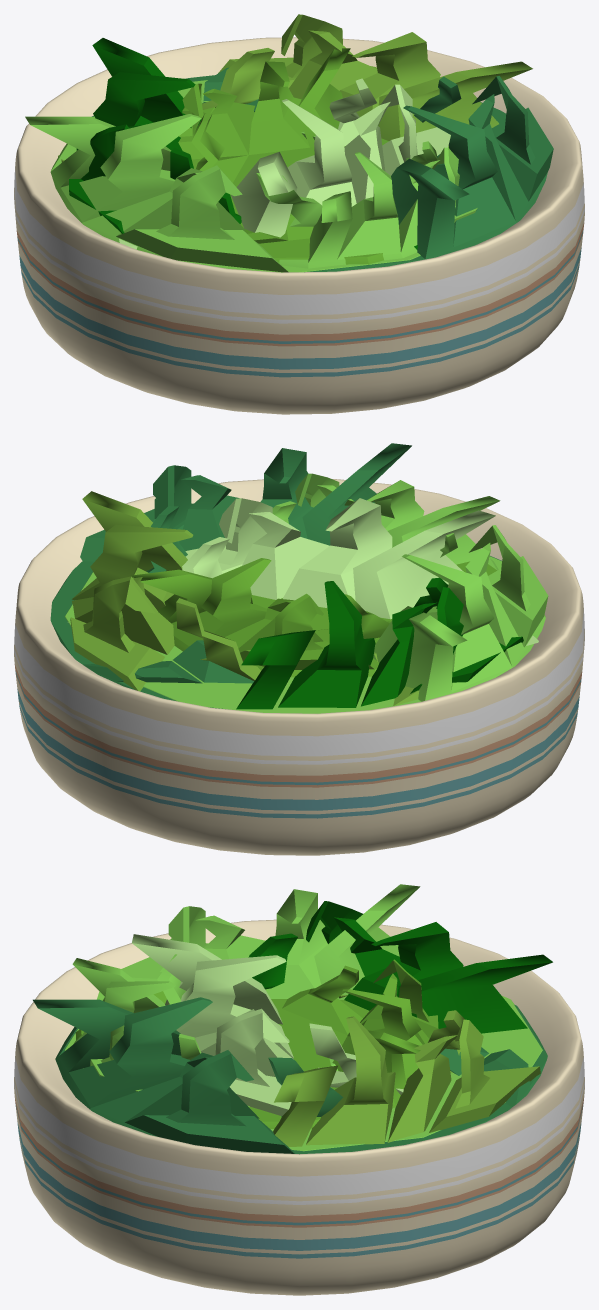
The model's file is meat_bowl_6.fbx.
3 renders of one model, top to bottom at view 1: azimuth 30°, elevation 25°; view 2: azimuth 150°, elevation 25°; view 3: azimuth 270°, elevation 25°, orthographic.
Parts seen in each view (by area): view 1: nurbsToPoly38, lettuce_bowl_v3:pDisc1, lettuce_bowl_v3:pDisc3, lettuce_bowl_v3:pDisc4, lettuce_bowl_v3:pDisc8, lettuce_bowl_v3:pDisc6, lettuce_bowl_v3:pDisc7, lettuce_bowl_v3:pDisc5; view 2: nurbsToPoly38, lettuce_bowl_v3:pDisc6, lettuce_bowl_v3:pDisc1, lettuce_bowl_v3:pDisc4, lettuce_bowl_v3:pDisc3, lettuce_bowl_v3:pDisc5, lettuce_bowl_v3:pDisc8, lettuce_bowl_v3:pDisc7; view 3: nurbsToPoly38, lettuce_bowl_v3:pDisc3, lettuce_bowl_v3:pDisc4, lettuce_bowl_v3:pDisc6, lettuce_bowl_v3:pDisc1, lettuce_bowl_v3:pDisc5, lettuce_bowl_v3:pDisc8, lettuce_bowl_v3:pDisc7.
Boxes of the visible parts, bbox=[...] form: nurbsToPoly38: bbox=[14, 37, 584, 414]; lettuce_bowl_v3:pDisc1: bbox=[25, 80, 498, 272]; lettuce_bowl_v3:pDisc3: bbox=[91, 67, 553, 272]; lettuce_bowl_v3:pDisc4: bbox=[58, 14, 532, 162]; lettuce_bowl_v3:pDisc8: bbox=[178, 48, 449, 264]; lettuce_bowl_v3:pDisc6: bbox=[119, 78, 450, 249]; lettuce_bowl_v3:pDisc7: bbox=[279, 131, 477, 268]; lettuce_bowl_v3:pDisc5: bbox=[69, 38, 417, 249]; nurbsToPoly38: bbox=[14, 479, 584, 855]; lettuce_bowl_v3:pDisc6: bbox=[68, 498, 538, 645]; lettuce_bowl_v3:pDisc1: bbox=[64, 525, 548, 713]; lettuce_bowl_v3:pDisc4: bbox=[70, 491, 419, 705]; lettuce_bowl_v3:pDisc3: bbox=[50, 443, 501, 709]; lettuce_bowl_v3:pDisc5: bbox=[236, 577, 523, 709]; lettuce_bowl_v3:pDisc8: bbox=[131, 558, 496, 677]; lettuce_bowl_v3:pDisc7: bbox=[272, 473, 500, 570]; nurbsToPoly38: bbox=[14, 919, 584, 1295]; lettuce_bowl_v3:pDisc3: bbox=[33, 997, 547, 1154]; lettuce_bowl_v3:pDisc4: bbox=[273, 995, 540, 1146]; lettuce_bowl_v3:pDisc6: bbox=[132, 934, 403, 1115]; lettuce_bowl_v3:pDisc1: bbox=[64, 884, 542, 1151]; lettuce_bowl_v3:pDisc5: bbox=[248, 901, 552, 1033]; lettuce_bowl_v3:pDisc8: bbox=[75, 959, 438, 1128]; lettuce_bowl_v3:pDisc7: bbox=[72, 958, 338, 1091].
Size of the model in its own units: 8.64 by 4.49 by 8.64.
